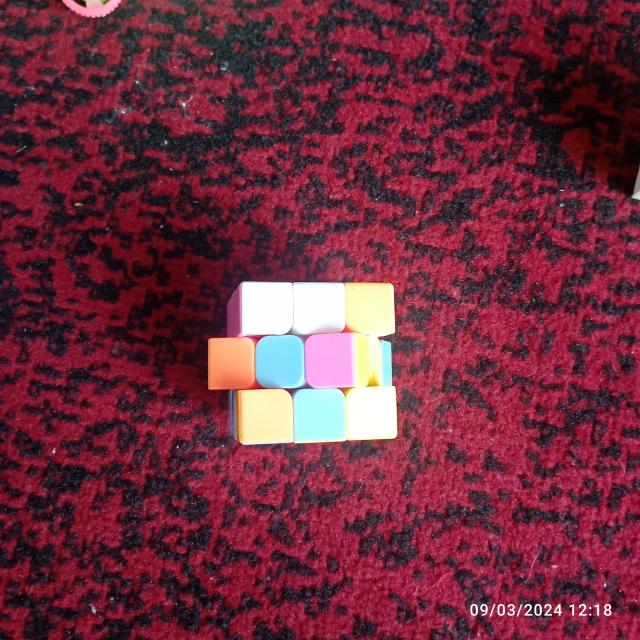Rub: (201, 278, 399, 454)
